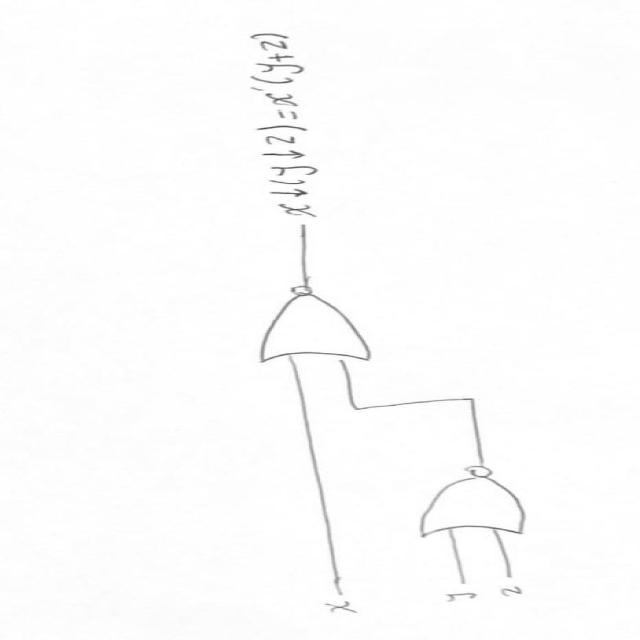NOR: (237, 280, 413, 371), (384, 459, 560, 543)
